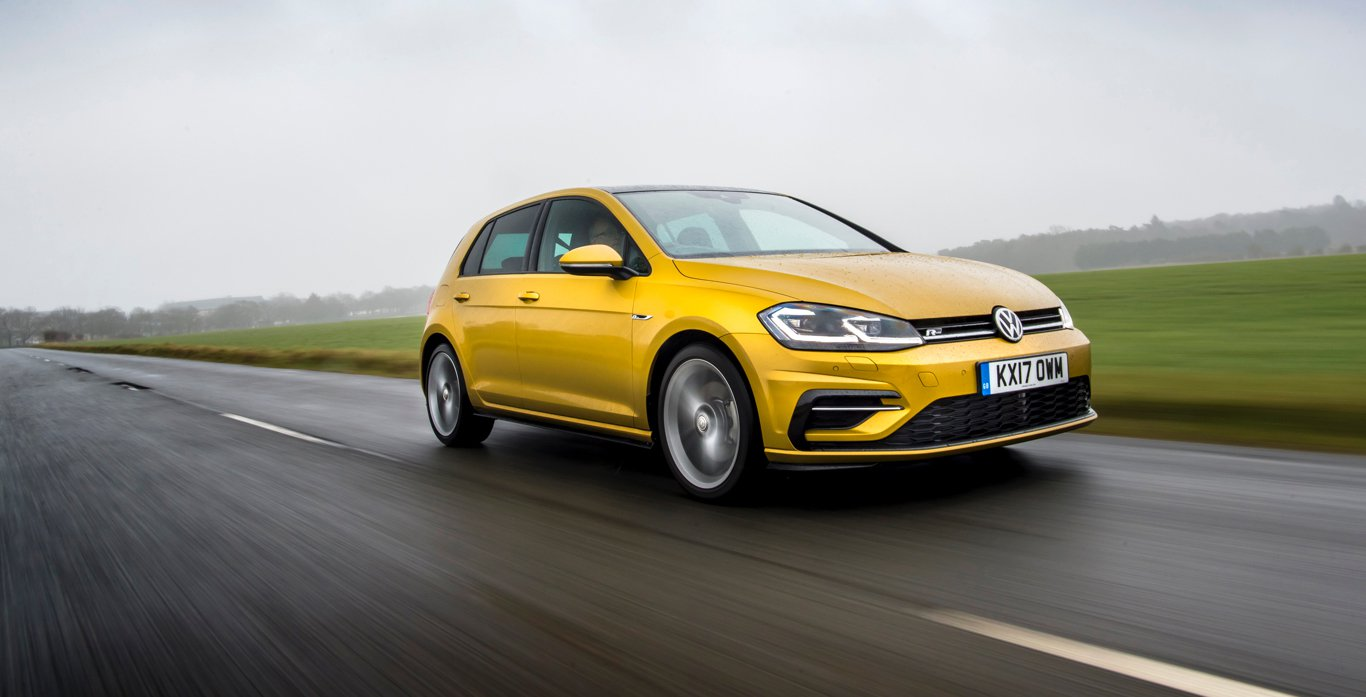car: (421, 176, 1106, 511)
